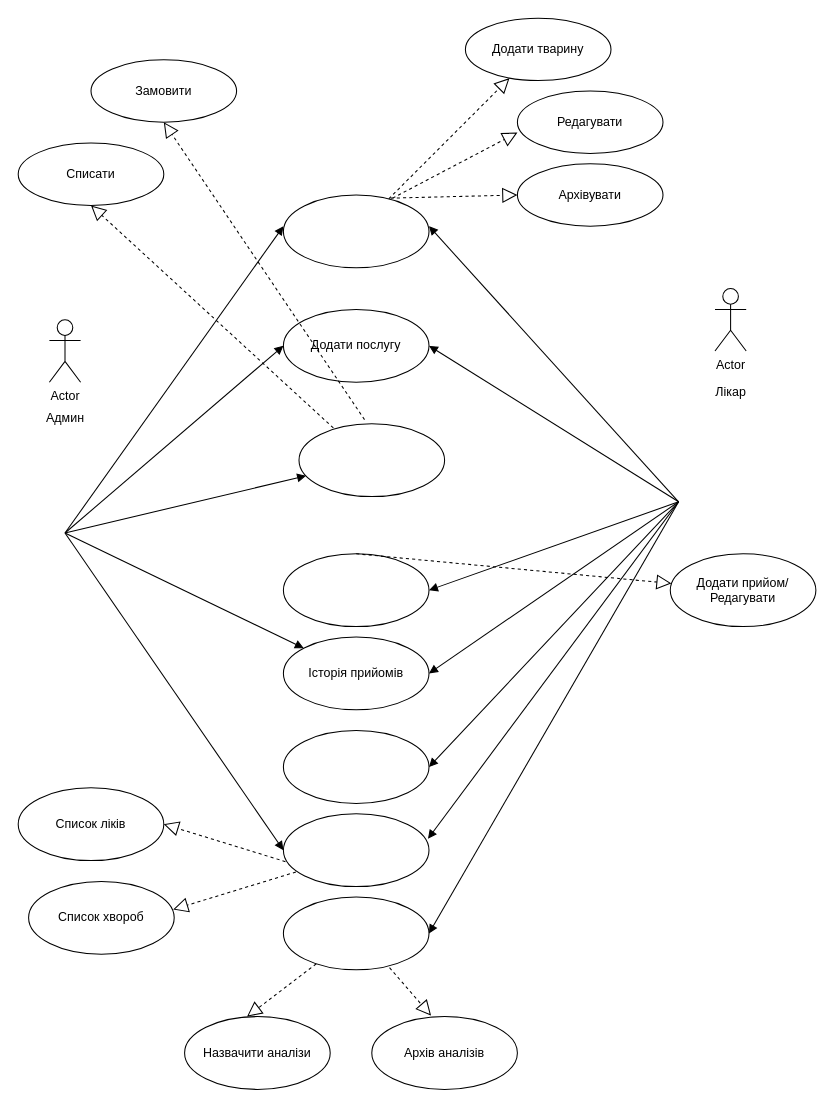
Image size: 834x1108. Some labels were removed from this diagram. The shapes that lost their labels are listed below. From the top down, each one's centre as x and y in pixels, then its label:
(x=355, y=231): Додати клієнта
(x=371, y=460): Облік ліків та товарів
(x=355, y=590): Прийом пацієнтів
(x=355, y=766): Продаж в магазині
(x=355, y=850): Довідник
(x=355, y=933): Аналізи
